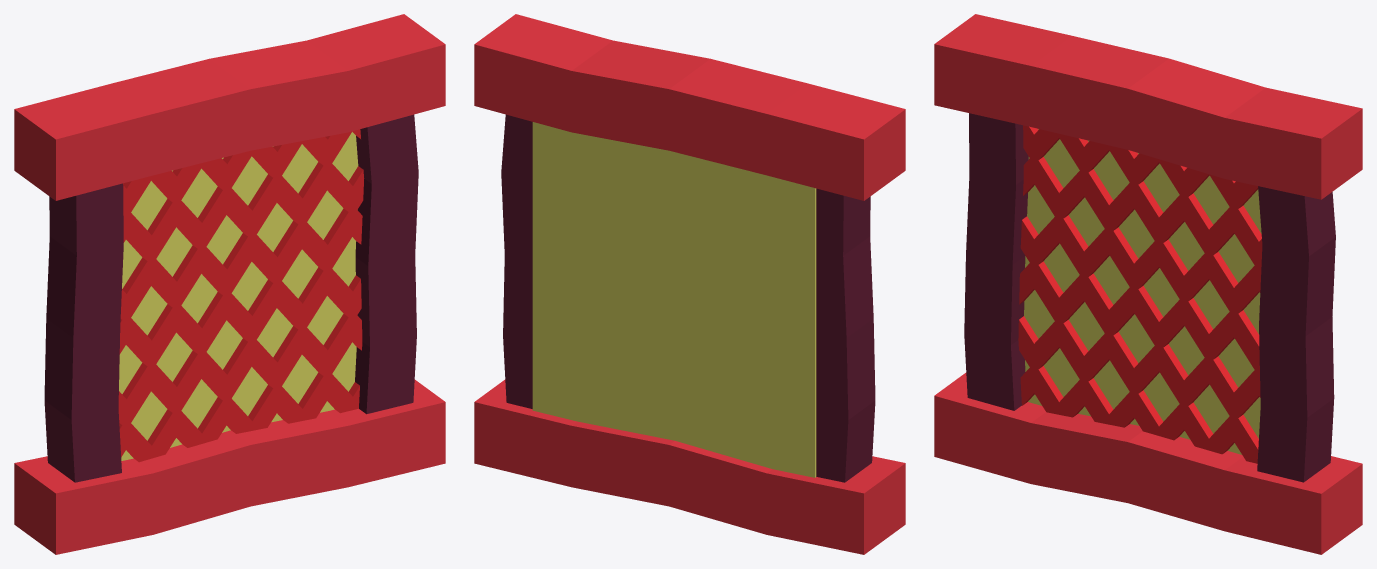
File: janela.fbx
The picture shows the model from 3 angles, left to right: view 1: azimuth 30°, elevation 25°; view 2: azimuth 150°, elevation 25°; view 3: azimuth 330°, elevation 25°; orthographic projection.
Visible parts, largest first — view 1: Janela Moldura, Janela Padrao, Janela Fundo; view 2: Janela Moldura, Janela Fundo; view 3: Janela Moldura, Janela Padrao, Janela Fundo.
Boxes of the visible parts, x1,y1,x2,y2 form: Janela Moldura: (14, 14, 445, 554); Janela Padrao: (118, 129, 364, 462); Janela Fundo: (119, 132, 358, 460); Janela Moldura: (474, 14, 905, 554); Janela Fundo: (532, 122, 816, 477); Janela Moldura: (934, 14, 1362, 554); Janela Padrao: (1018, 125, 1262, 463); Janela Fundo: (1024, 129, 1261, 454).
Size of the model in its own units: 804 by 831 by 148.
